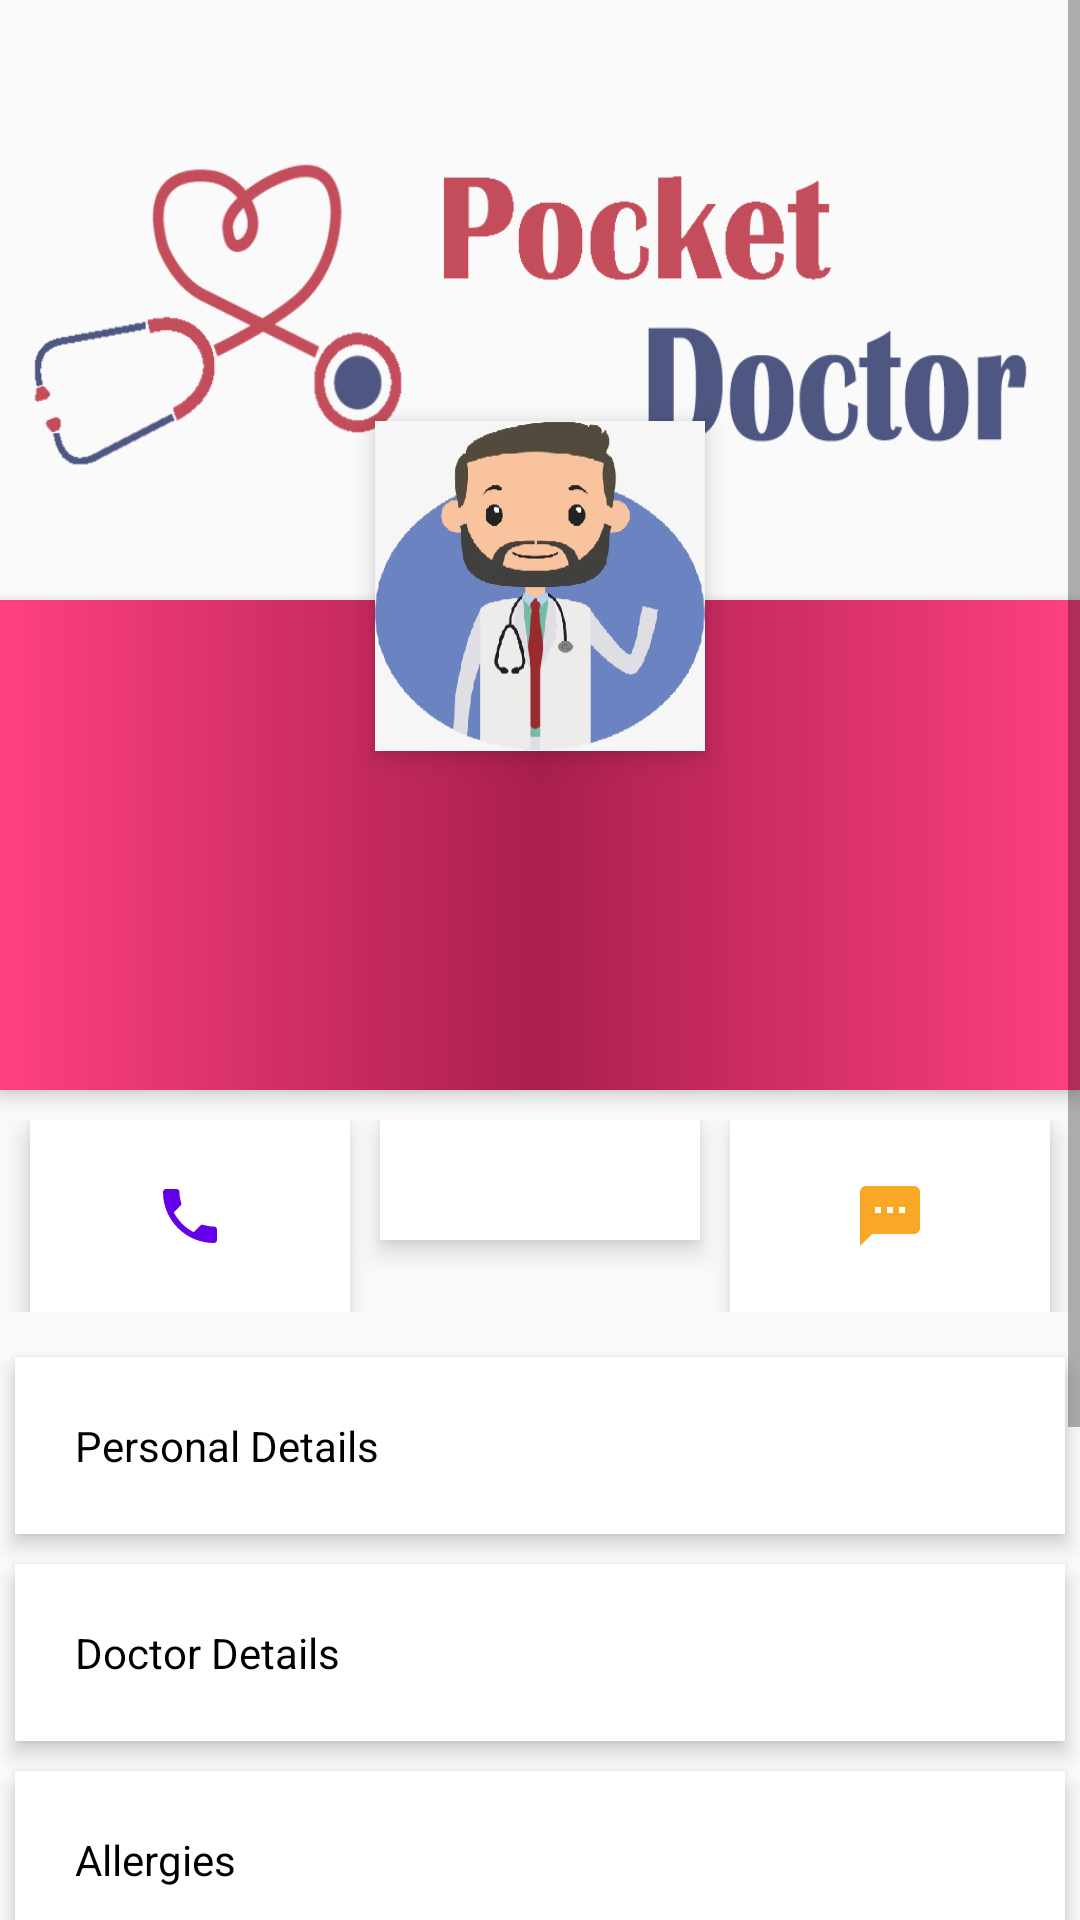

Icon click points for this 1080px x 1920px phone screenshot, format (x,y):
call: (190,1216)
doctor: (540,586)
